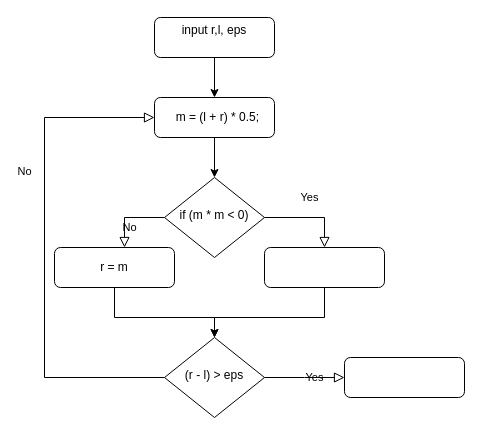
This 482x435 diagram has some shape labels left out. The shapes that lost their labels are listed below. From the top down, each one's centre as x and y in pixels, then its label:
the point at 324,267: l = m
the point at 404,377: return m
